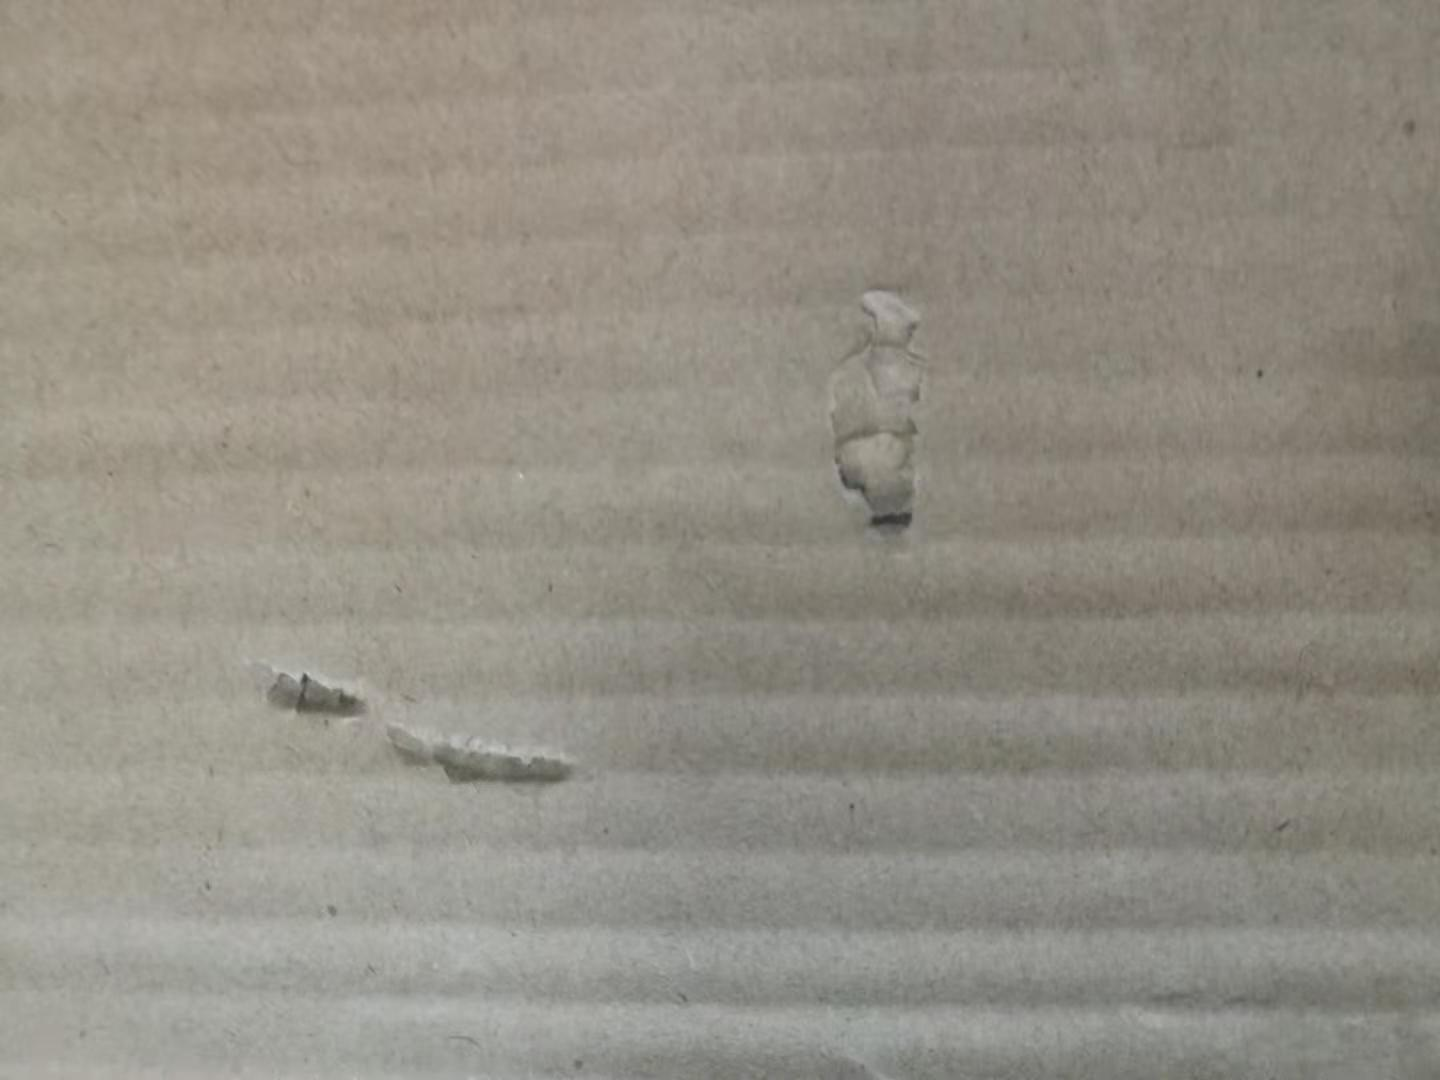defect: (225, 634, 619, 832), (785, 251, 986, 584)
